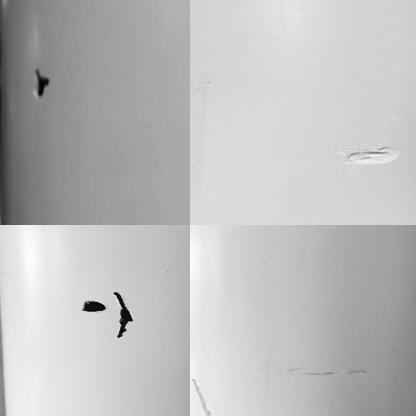kongdong: (111, 286, 140, 349), (31, 67, 58, 101), (79, 297, 107, 318)
sunshang: (341, 143, 400, 170)
